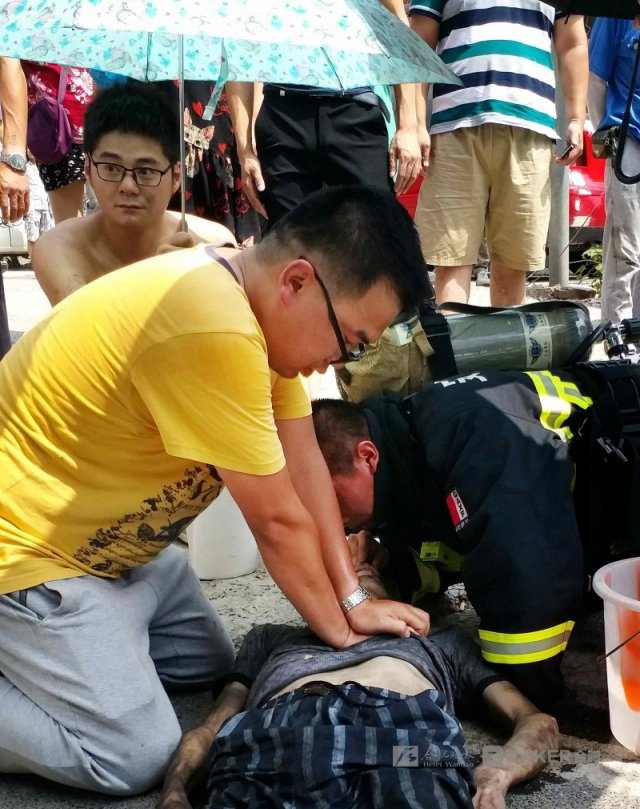falling: (120, 532, 589, 806)
